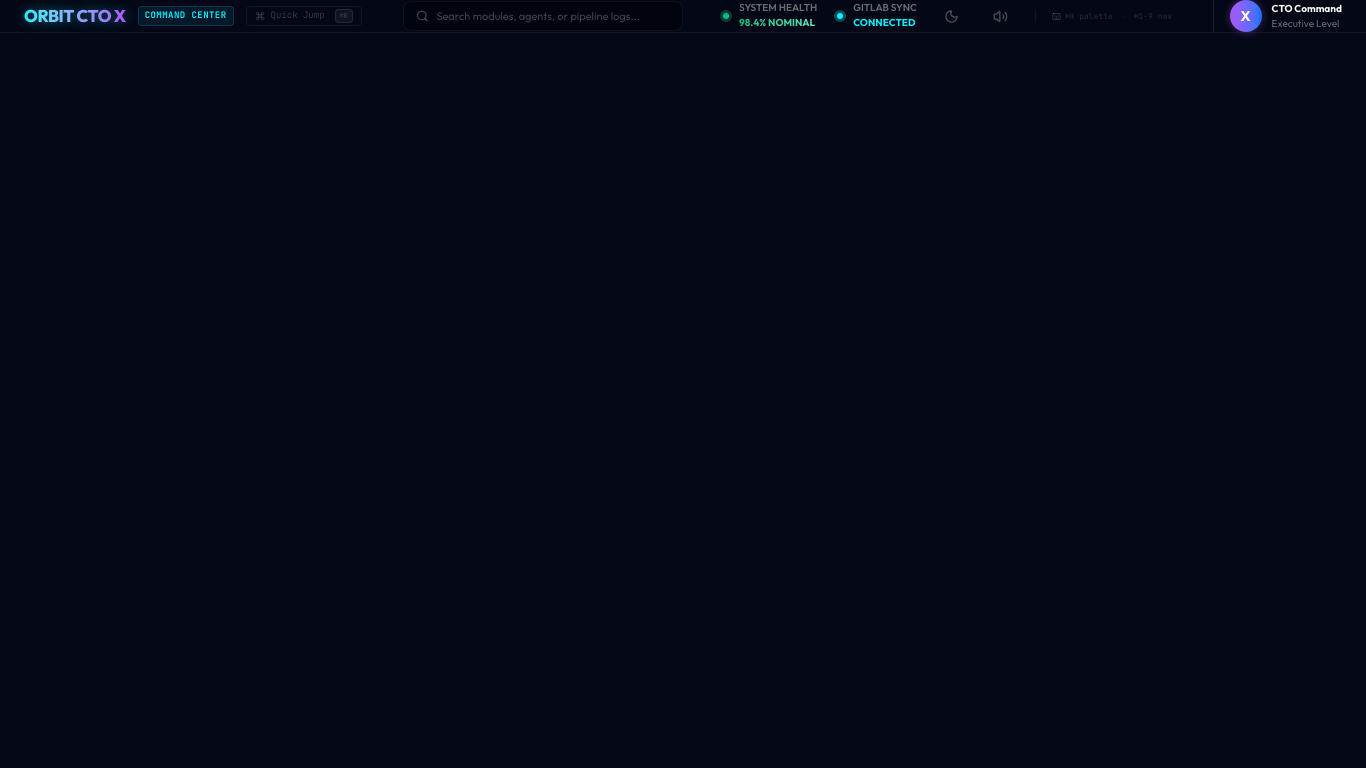
Test: CommandBar › command palette › filters navigation items by search text
Click the text "Quick Jump".
click(298, 16)  # box 271,9 -> 325,23
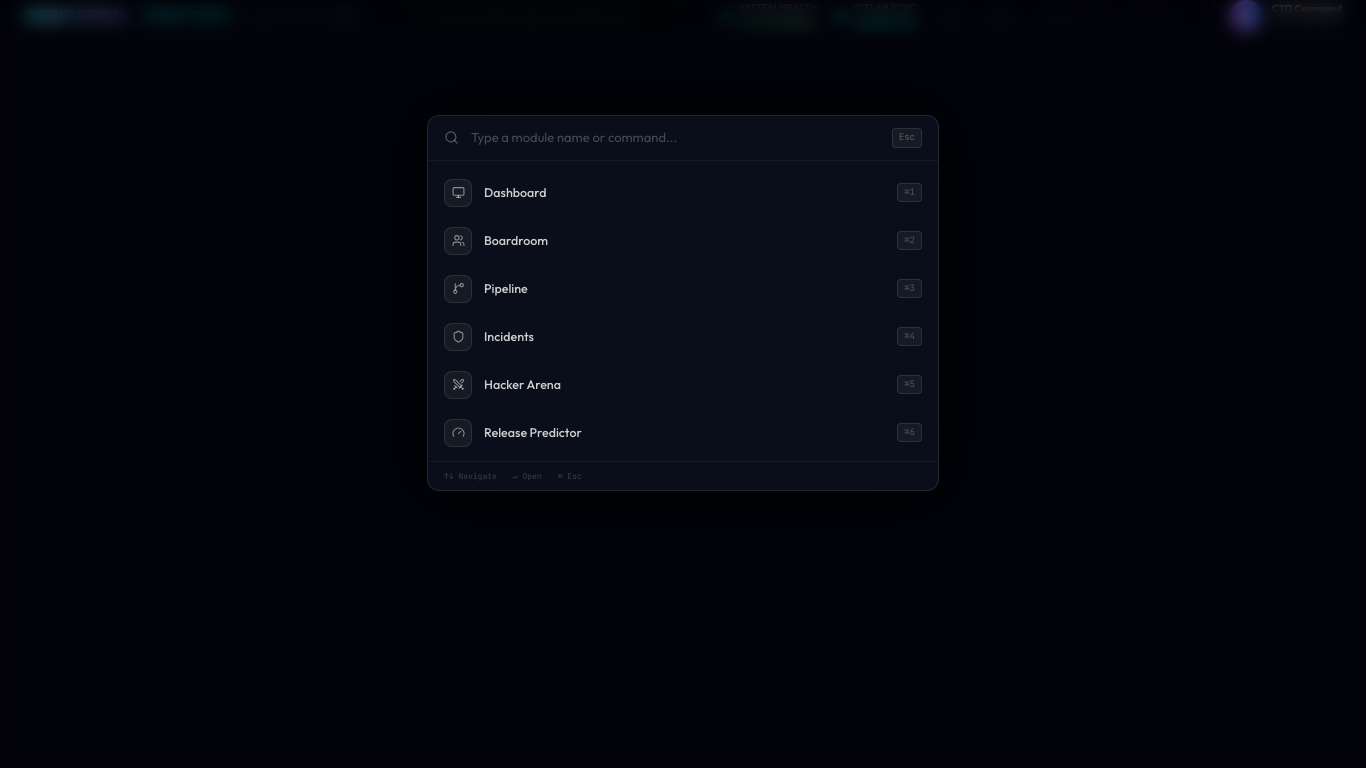
Type "hacker" into the field with placeholder "Type a module name or command...".
click(675, 138); type("hacker")  # box 471,128 -> 880,148
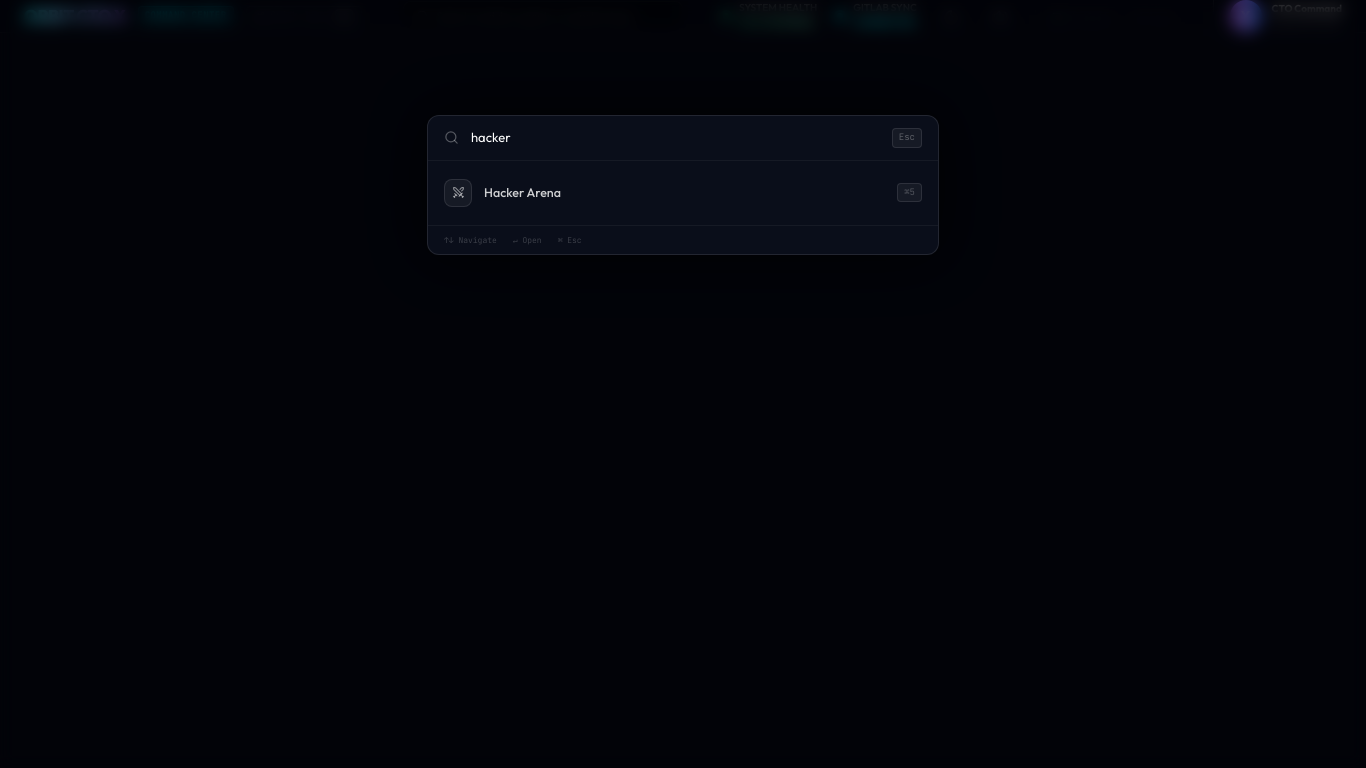
Expected: the text "Hacker Arena" is shown, 484,184 -> 561,200
Expected: the button "Dashboard" is gone
Expected: the button "Boardroom" is gone
